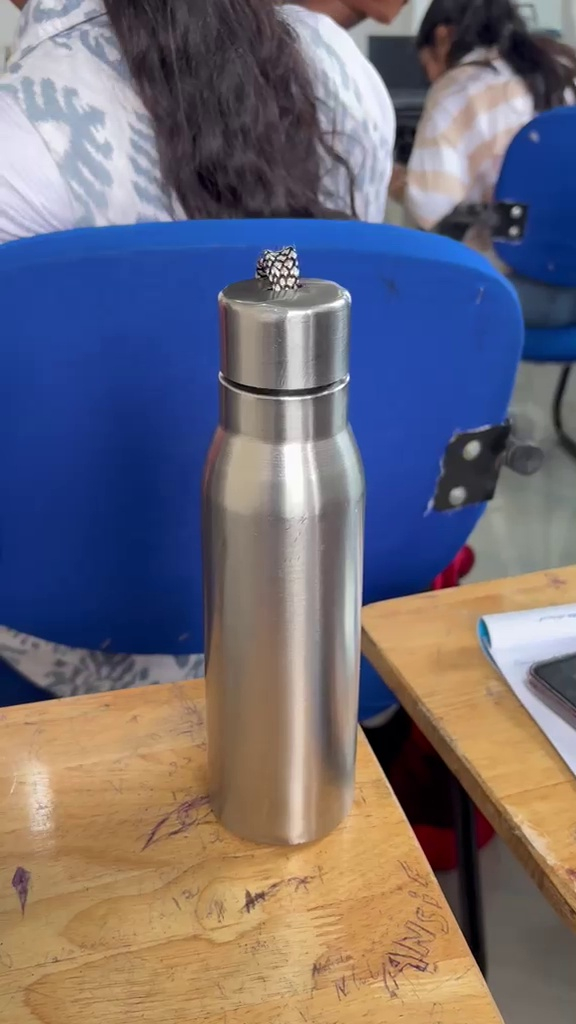Bottle: (206, 236, 374, 856)
